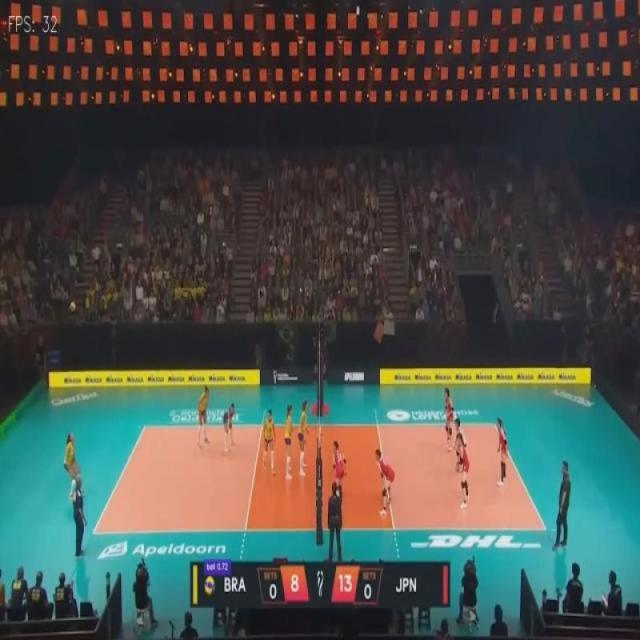volleyball: (204, 576, 216, 596), (70, 300, 76, 312)
